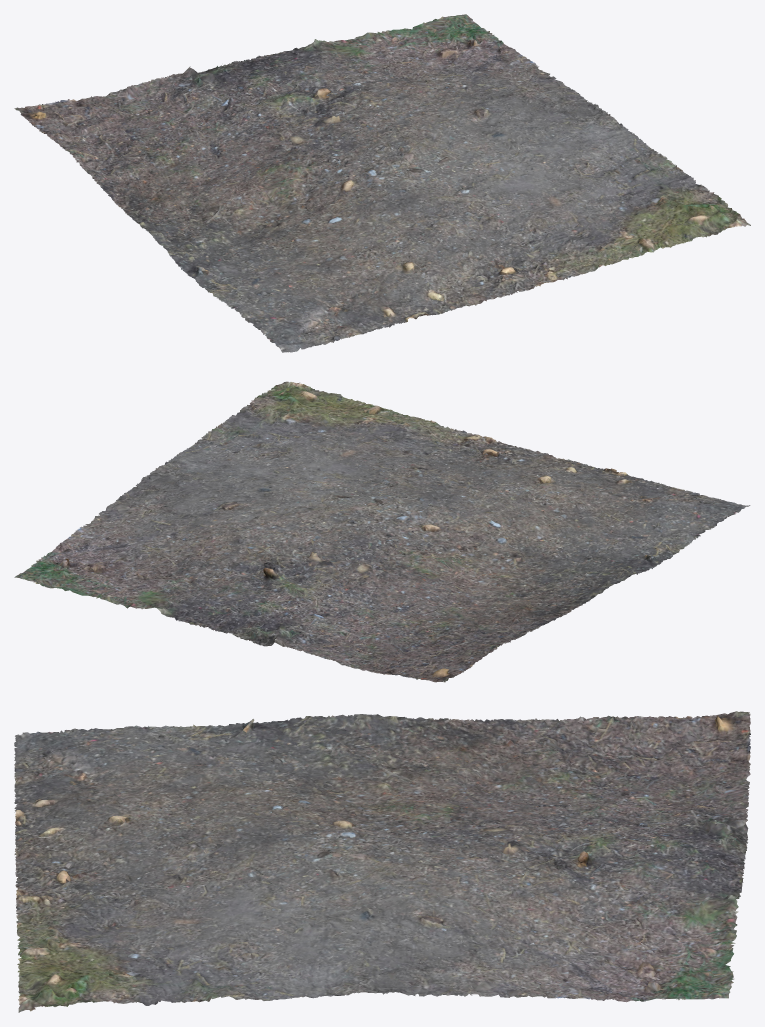
The model's file is pine_needle_forest_floor.glb.
3 renders of one model, top to bottom at view 1: azimuth 30°, elevation 25°; view 2: azimuth 150°, elevation 25°; view 3: azimuth 270°, elevation 25°, orthographic. The views are drawn at different scales.
Visible parts, largest first — view 1: model; view 2: model; view 3: model.
Part boxes in pixels (x1=…): model: x1=14, y1=14, x2=750, y2=352; model: x1=14, y1=381, x2=750, y2=682; model: x1=14, y1=711, x2=750, y2=1012.
Bounding box in the file's own units: 1.97 × 0.1518 × 2.1.
Materials: 1 (1 with a texture image).
